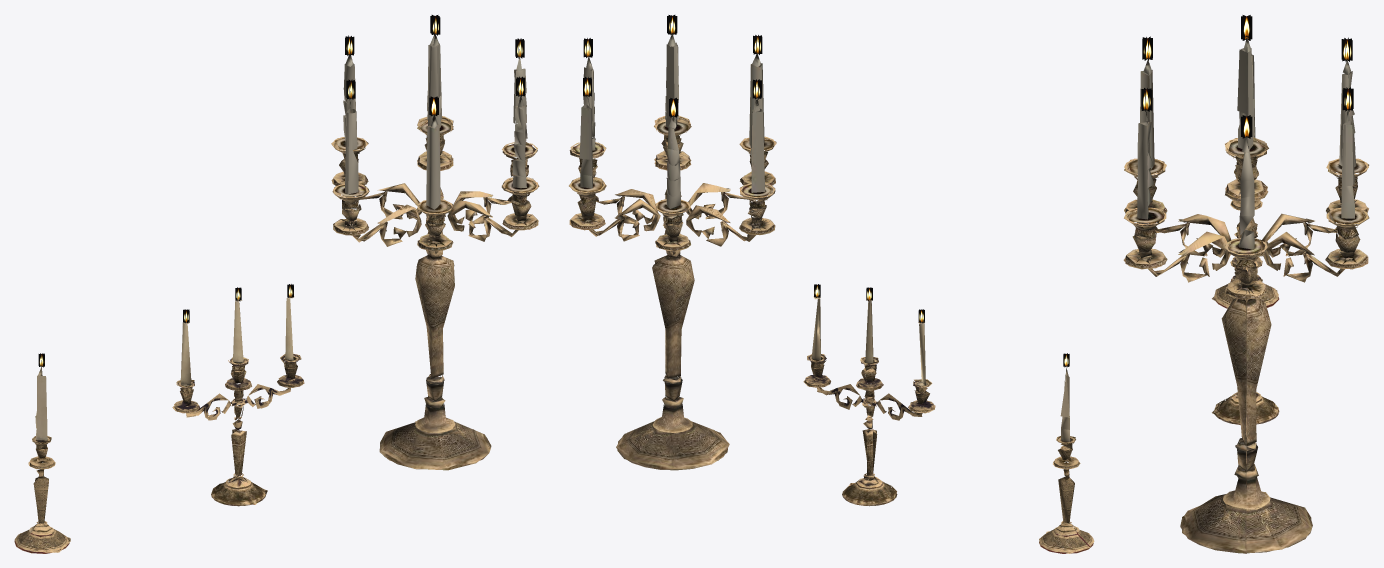
Rendered from ph_brass_candleholders.glb.
3 renders of one model, left to right at view 1: azimuth 30°, elevation 25°; view 2: azimuth 150°, elevation 25°; view 3: azimuth 270°, elevation 25°, orthographic. The views are drawn at different scales.
Visible parts, largest first — view 1: brass_candleholder_03; view 2: brass_candleholder_03; view 3: brass_candleholder_03.
Part boxes in pixels (bbox=[...]): brass_candleholder_03: bbox=[14, 15, 539, 553]; brass_candleholder_03: bbox=[569, 15, 1094, 553]; brass_candleholder_03: bbox=[1123, 15, 1369, 553].
Bounding box in the file's own units: 1.05 × 0.8356 × 0.3659.
5 materials, 5 textured.
